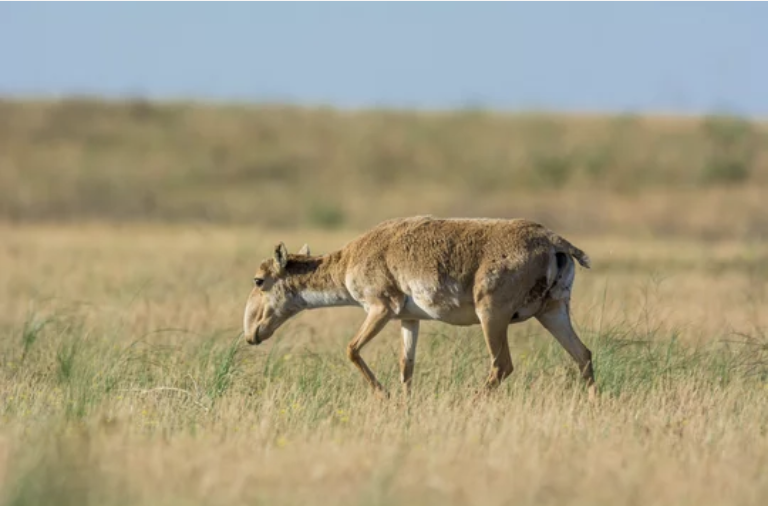saiga: (238, 202, 622, 416)
